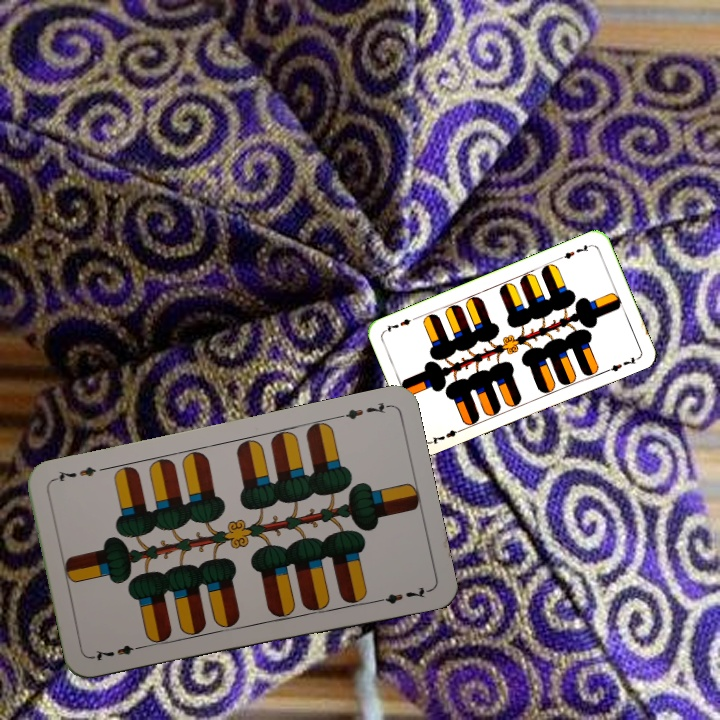E7: (333, 398, 392, 422), (89, 640, 147, 664), (428, 424, 466, 447), (556, 240, 594, 262)
